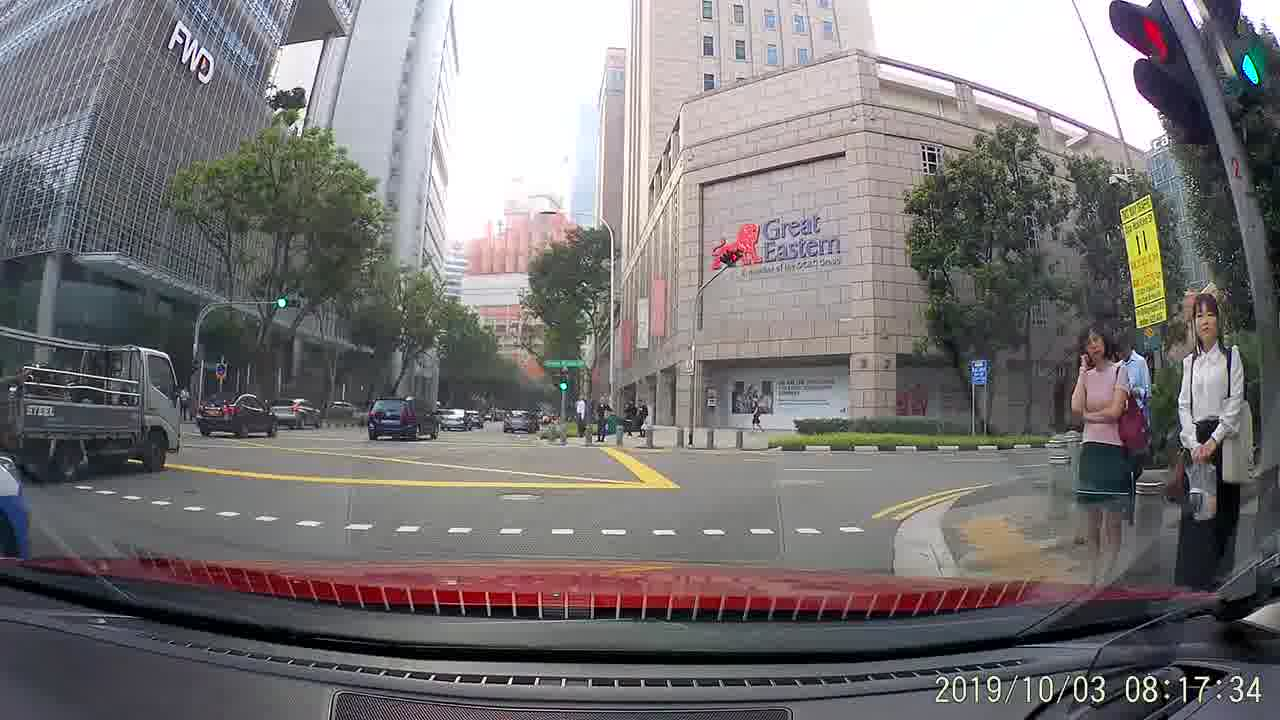car: (198, 390, 276, 441), (363, 397, 439, 444), (265, 395, 321, 429), (500, 406, 538, 436), (440, 403, 471, 432), (466, 410, 484, 425)
